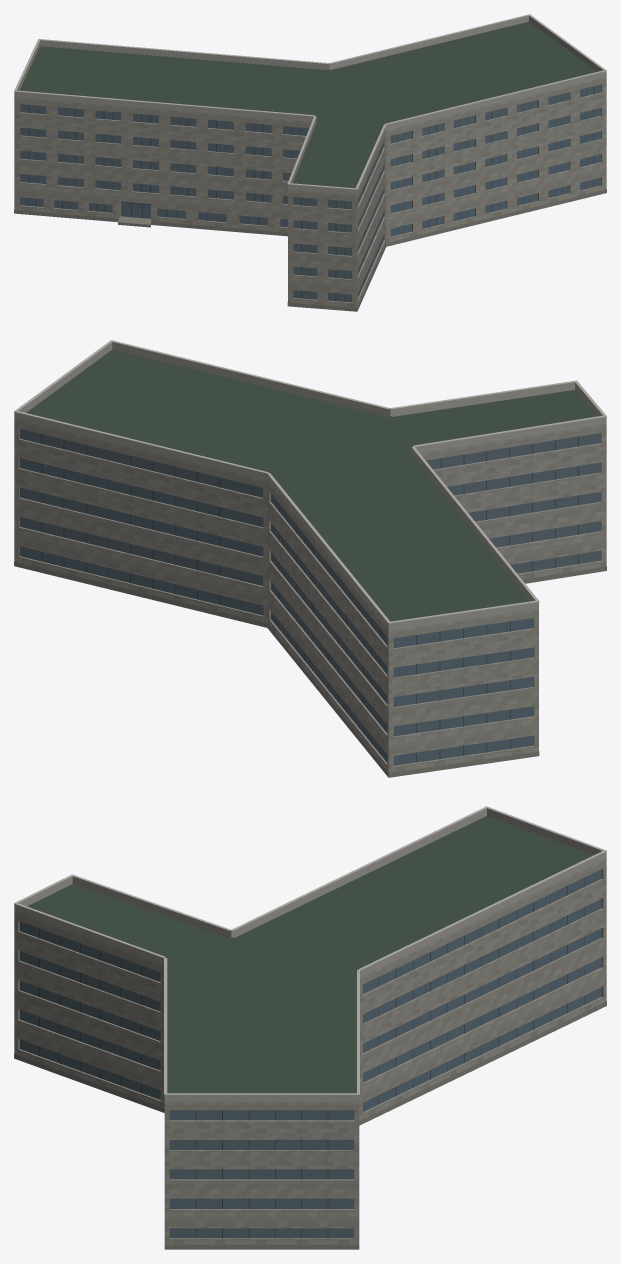
3 renders of one model, top to bottom at view 1: azimuth 30°, elevation 25°; view 2: azimuth 150°, elevation 25°; view 3: azimuth 270°, elevation 25°, orthographic. The views are drawn at different scales.
Parts seen in each view (by area): view 1: sciB__wall, sciB__roof, sciB__glass, sciB__parapet, sciB__trim, sciB__base, sciB__frame; view 2: sciB__wall, sciB__roof, sciB__glass, sciB__parapet, sciB__trim, sciB__base, sciB__frame; view 3: sciB__wall, sciB__roof, sciB__glass, sciB__parapet, sciB__trim, sciB__base, sciB__frame.
Part boxes in pixels (box(x1,y1,x2,y2)): sciB__wall: box(14, 77, 606, 311); sciB__roof: box(19, 21, 597, 188); sciB__glass: box(20, 84, 601, 302); sciB__parapet: box(14, 15, 606, 195); sciB__trim: box(14, 14, 606, 189); sciB__base: box(14, 189, 606, 311); sciB__frame: box(27, 86, 594, 301); sciB__wall: box(14, 419, 606, 777); sciB__roof: box(26, 349, 597, 621); sciB__glass: box(19, 429, 600, 765); sciB__parapet: box(14, 342, 606, 630); sciB__trim: box(14, 340, 606, 623); sciB__base: box(14, 561, 606, 777); sciB__frame: box(41, 434, 578, 762); sciB__wall: box(14, 858, 606, 1244); sciB__roof: box(27, 816, 593, 1093); sciB__glass: box(19, 869, 601, 1238); sciB__parapet: box(14, 808, 606, 1101); sciB__trim: box(14, 806, 606, 1095); sciB__base: box(14, 1001, 606, 1249); sciB__frame: box(39, 877, 584, 1238).
Bounding box in the file's own units: 79.69 × 20.4 × 69.3.
Materials: 8 (1 with a texture image).
